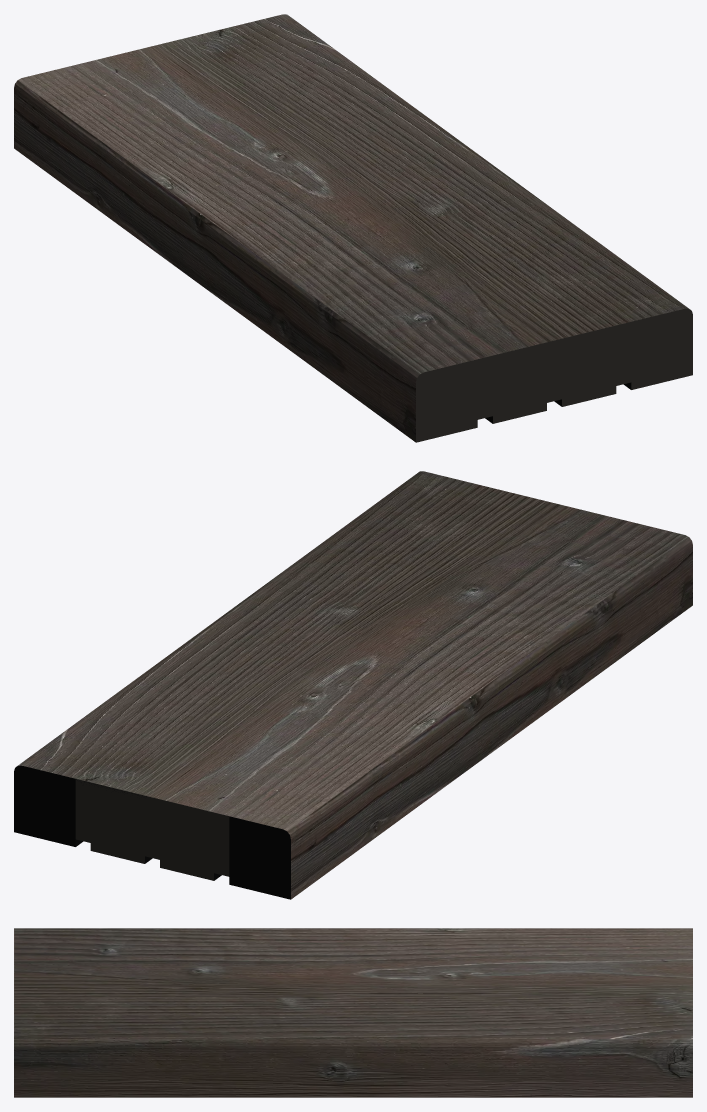
Rendered from spruce-terrace-dark-brown.glb.
The picture shows the model from 3 angles, top to bottom: view 1: azimuth 30°, elevation 25°; view 2: azimuth 150°, elevation 25°; view 3: azimuth 270°, elevation 25°; orthographic projection. The views are drawn at different scales.
Parts seen in each view (by area): view 1: Staciakampis; view 2: Staciakampis; view 3: Staciakampis.
Part boxes in pixels (x1,y1,x2,y2): Staciakampis: [14, 14, 692, 442]; Staciakampis: [14, 471, 692, 899]; Staciakampis: [14, 928, 692, 1097].
Size of the model in its own units: 0.0733 by 0.0173 by 0.1843.
3 materials, 1 textured.
